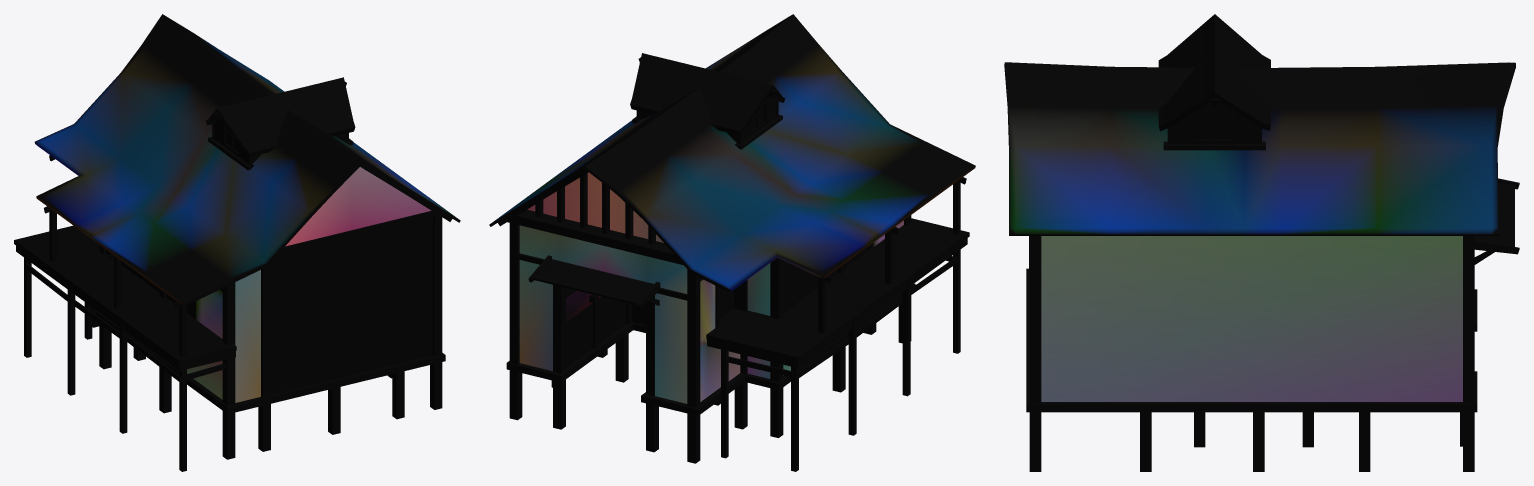
Rendered from Woods_Lake_Cabin_01.gltf.
3 renders of one model, left to right at view 1: azimuth 30°, elevation 25°; view 2: azimuth 150°, elevation 25°; view 3: azimuth 270°, elevation 25°, orthographic. The views are drawn at different scales.
Parts seen in each view (by area): view 1: Woods_Lake_Cabin_01; view 2: Woods_Lake_Cabin_01; view 3: Woods_Lake_Cabin_01.
Boxes of the visible parts, x1,y1,x2,y2 form: Woods_Lake_Cabin_01: (14, 14, 460, 471); Woods_Lake_Cabin_01: (489, 14, 975, 471); Woods_Lake_Cabin_01: (1004, 14, 1519, 471).
Size of the model in its own units: 38.03 by 37.19 by 47.86.
